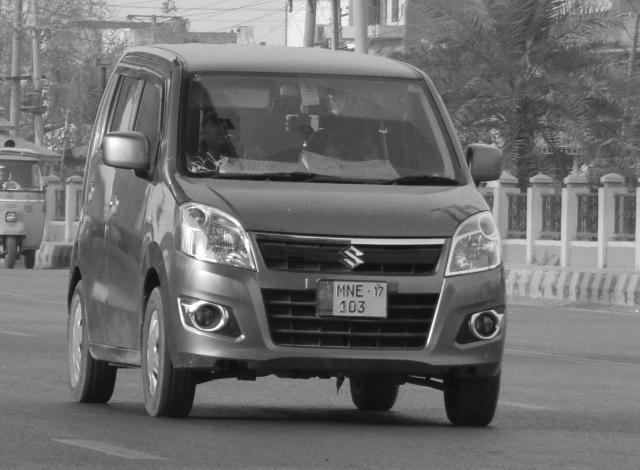Number: (337, 284, 367, 314)
